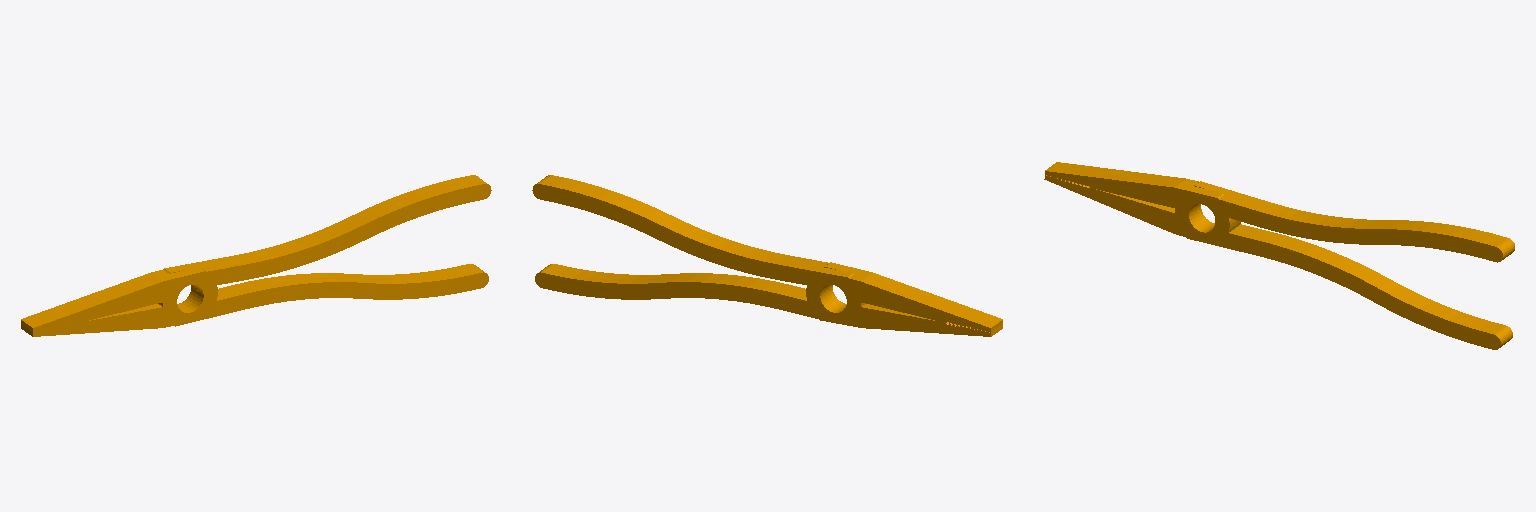
URDF robot description (plier_2_L0.70_T0.70):
<?xml version="1.0" encoding="utf-8"?>
<robot name="plier_2_L0.70_T0.70">
  <link name="plier_2_L0.70_T0.70Link">
    <contact>
      <lateral_friction value="1"/>
    </contact>
    <inertial>
      <origin rpy="0 0 0" xyz="0 0 0"/>
      <mass value="0.0"/>
      <inertia ixx="0" ixy="0" ixz="0" iyy="0" iyz="0" izz="0"/>
    </inertial>
    <visual>
      <origin rpy="0 0 0" xyz="0 0 0"/>
      <geometry>
        <mesh filename="generated_stl/plier/plier_2/plier_2_L0.70_T0.70/plier_2_L0.70_T0.70.stl" scale="0.01 0.01 0.01"/>
      </geometry>
    </visual>
    <collision>
      <origin rpy="0 0 0" xyz="0 0 0"/>
      <geometry>
        <mesh filename="generated_stl/plier/plier_2/plier_2_L0.70_T0.70/plier_2_L0.70_T0.70.stl" scale="0.01 0.01 0.01"/>
      </geometry>
    </collision>
  </link>
</robot>

--- Render facts (derived) ---
Views: 3 orthographic renders of the robot side by side, from view 1: azimuth 30°, elevation 25°; view 2: azimuth 150°, elevation 25°; view 3: azimuth 330°, elevation 25°.
Model plier_2_L0.70_T0.70 with 1 links and 0 joints (none), rooted at plier_2_L0.70_T0.70Link, posed every joint at zero.
Links seen in each view (by area): view 1: plier_2_L0.70_T0.70Link; view 2: plier_2_L0.70_T0.70Link; view 3: plier_2_L0.70_T0.70Link.
Link boxes in pixels (x1,y1,x2,y2): plier_2_L0.70_T0.70Link: (21, 175, 491, 336); plier_2_L0.70_T0.70Link: (532, 175, 1002, 336); plier_2_L0.70_T0.70Link: (1044, 162, 1514, 349).
Bounding box of the posed robot: 0.056 × 0.0026 × 0.0122 m (x, y, z).
1 mesh visuals loaded from 1 distinct referenced files (1 binary STL).